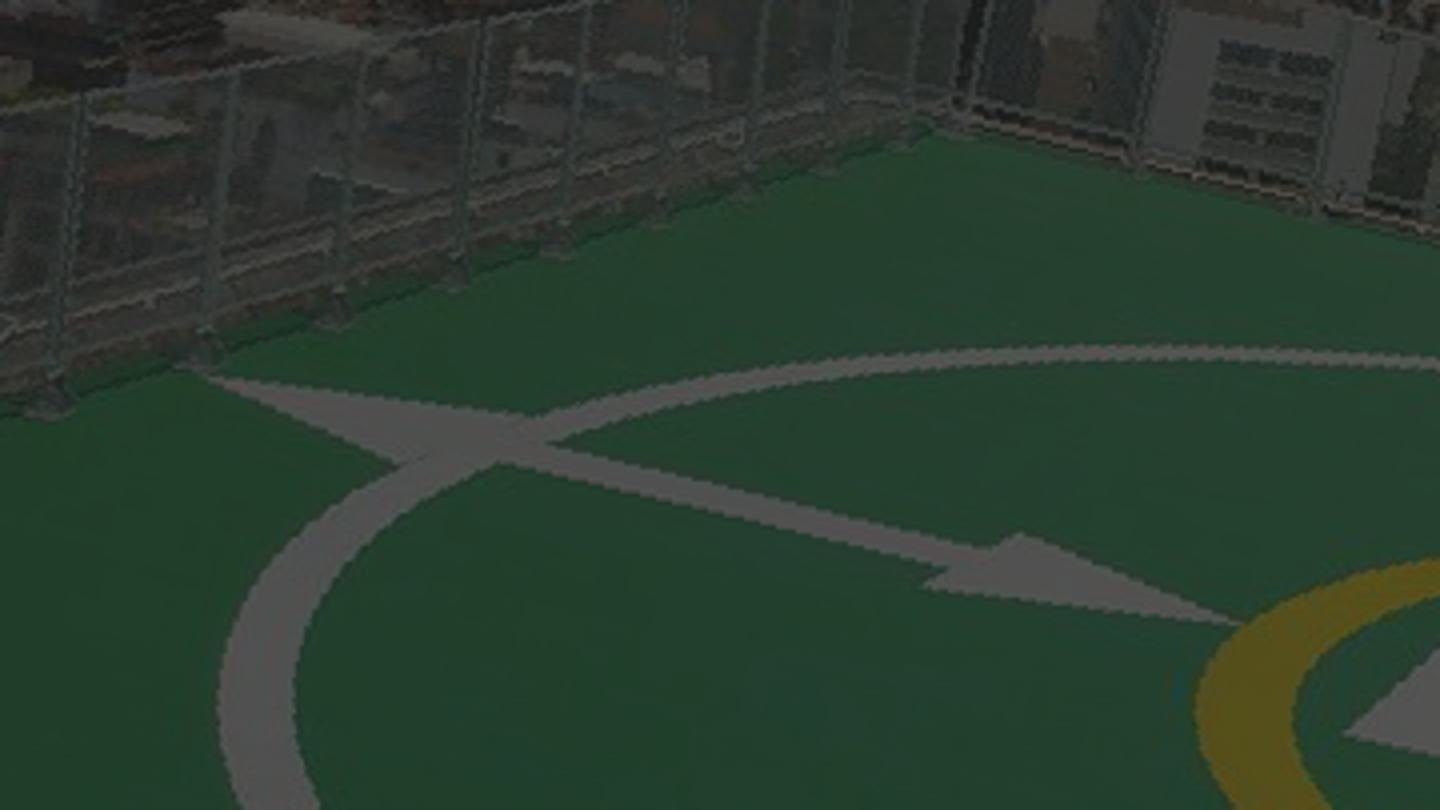Apron: (1185, 539, 1440, 805)
